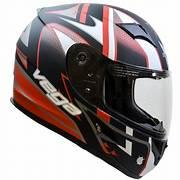Helmet: (11, 4, 171, 177)
